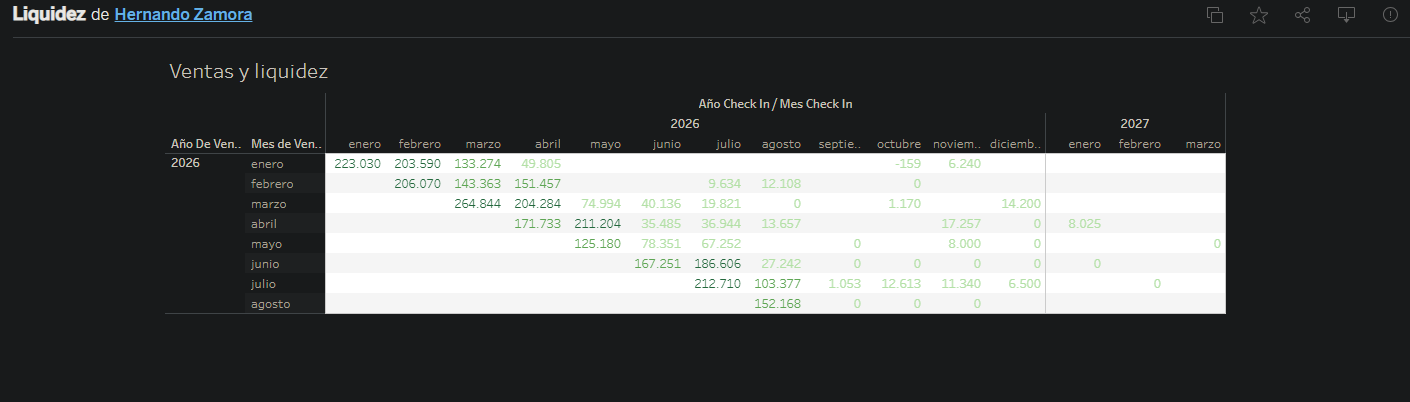

This screenshot's page, from the dashboard's own definition file:
{"tool":"tableau","page":{"name":"Dashboard 1","canvas":[1000,1000],"units":"permille","ordinal":0},"visuals":[{"type":"worksheet","title":"Hoja 1","mark":"Automatic","rows":["año de venta","Mes de Venta"],"cols":["año check in","Mes Check In"],"box":[7.1,9.3,985.7,981.4]}]}

Visuals, with their boxes on the dashboard's canvas, which has no fixed pixel size, in thousandths of its width and height (x1, y1, x2, y2). These are canvas units, not pixel positions in the 1410x402 screenshot, which may show the page scaled, cropped or inside an application window:
"Hoja 1" worksheet: bbox(7, 9, 993, 991)
